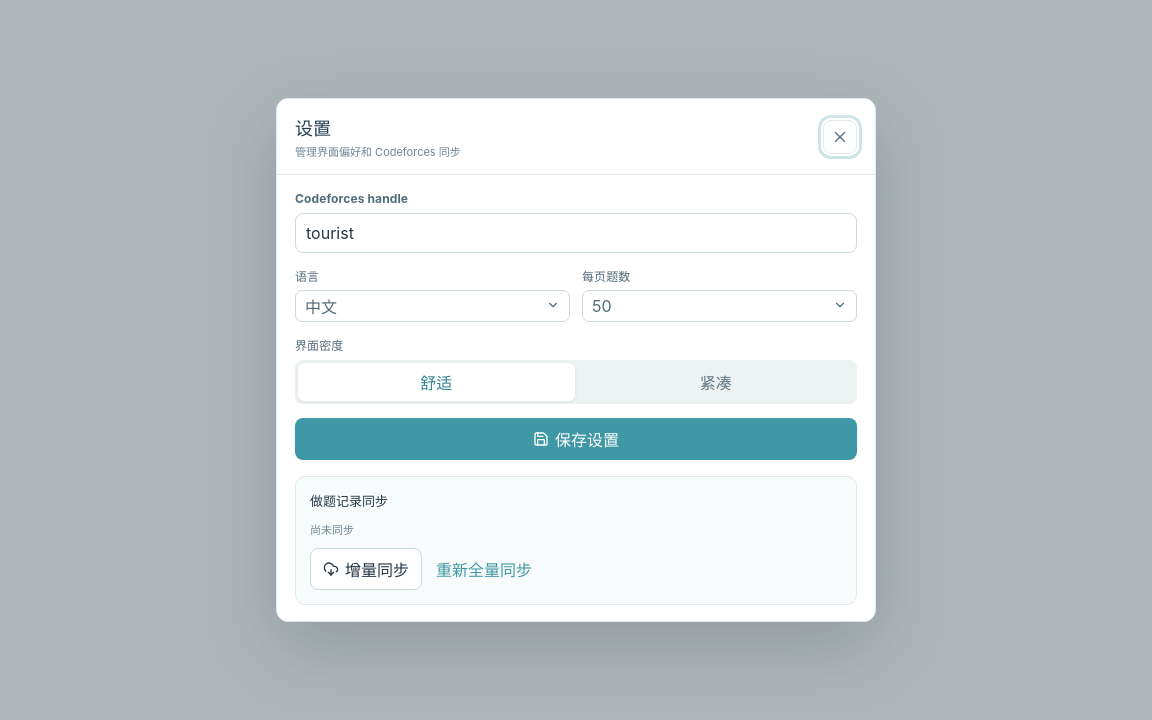
Test: SettingsDialog › requires saving changed settings before syncing
This screenshot has width=1152, height=720.
In the field showing "tourist": (576, 233) [295, 213, 857, 253], type "new-handle"
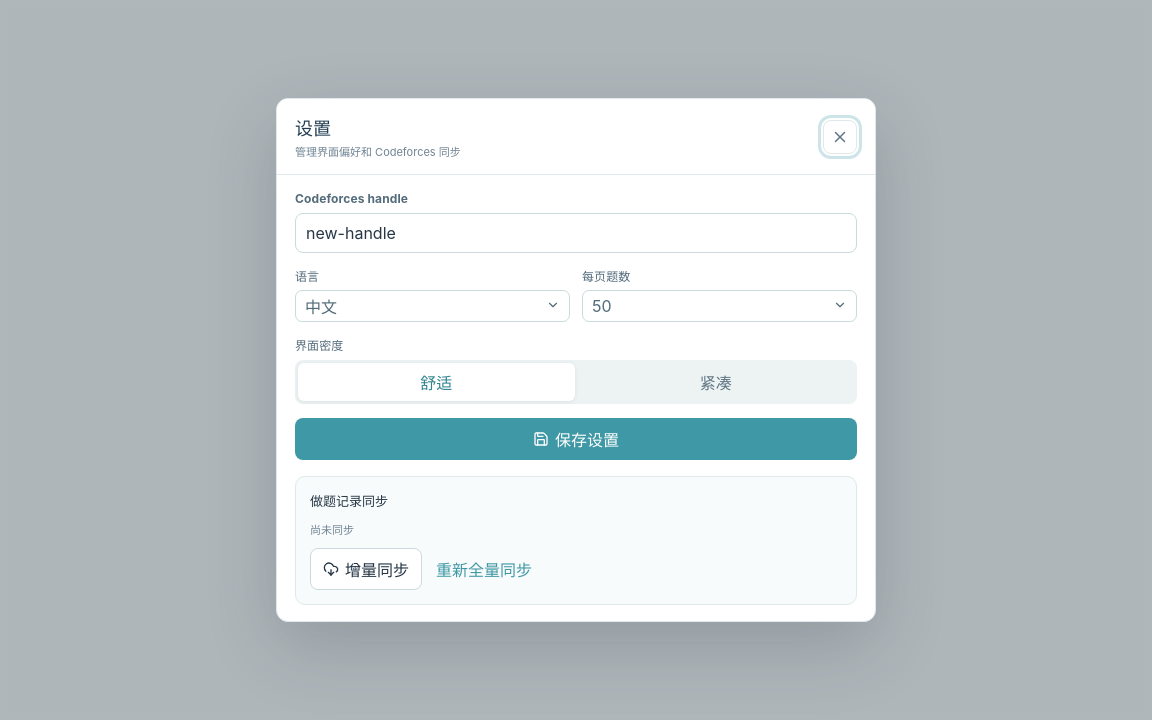
Click the button "增量同步": click(366, 569) [310, 548, 422, 590]
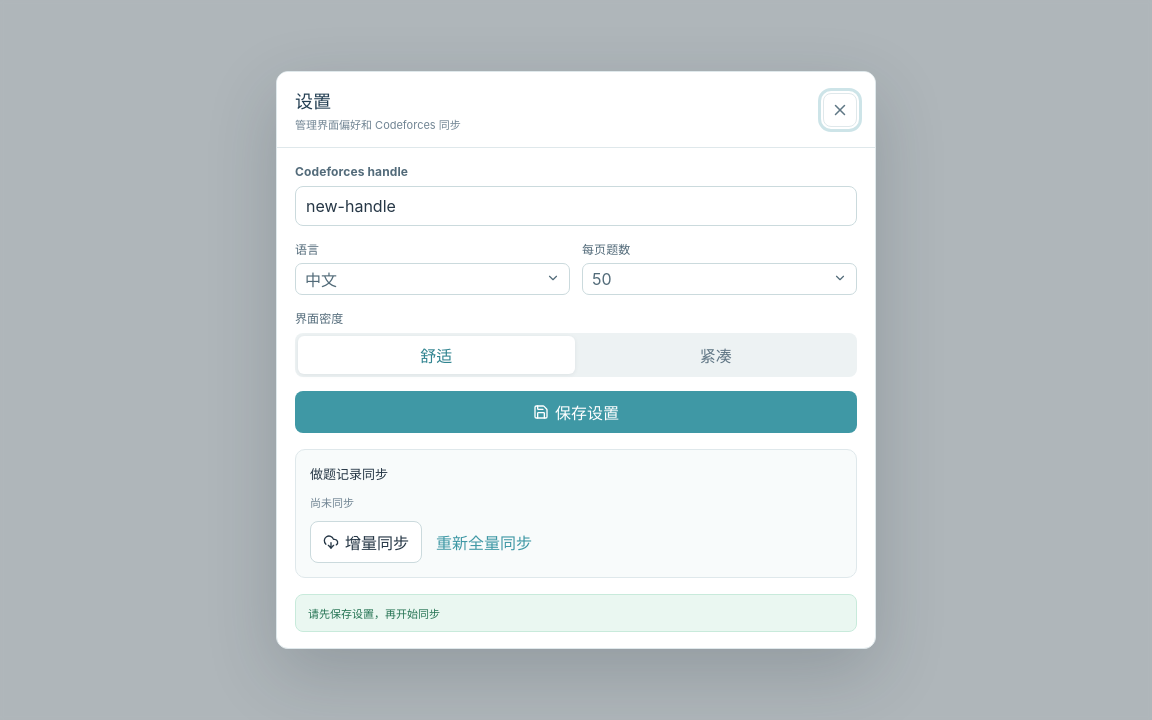
Check: the text "请先保存设置，再开始同步" is shown, box [295, 594, 857, 632]
